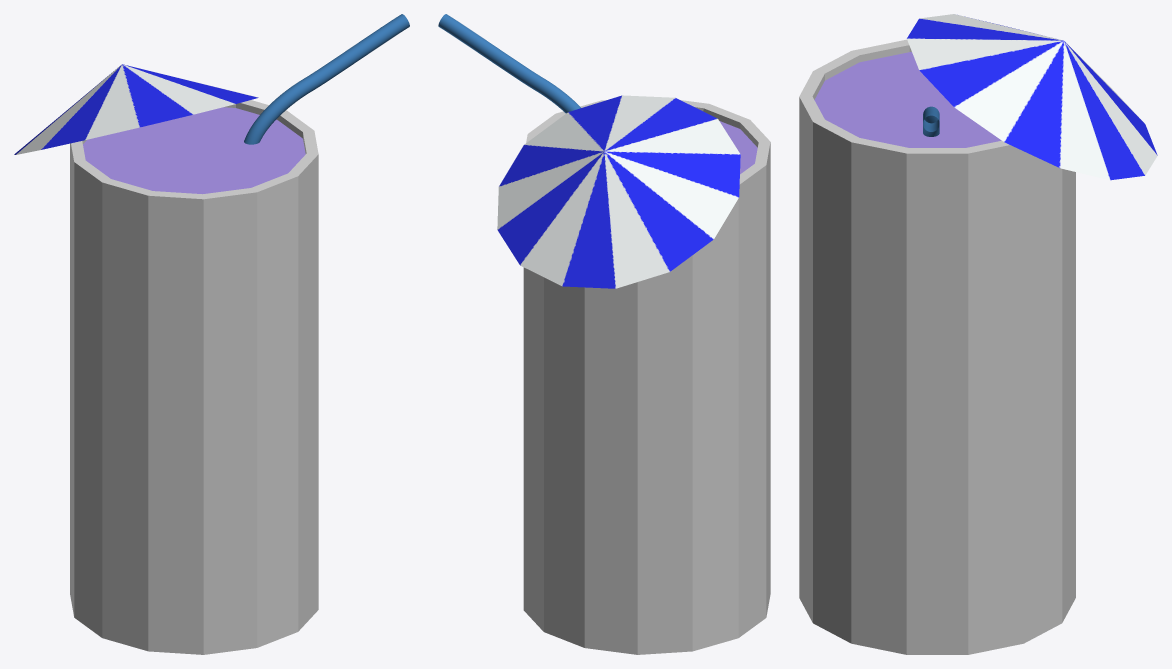
The model's file is CoctailOrange.fbx.
3 views of the same model, side by side, from view 1: azimuth 30°, elevation 25°; view 2: azimuth 150°, elevation 25°; view 3: azimuth 270°, elevation 25° (orthographic). The views are drawn at different scales.
Parts seen in each view (by area): view 1: Cylinder.001, Cylinder.004, Cylinder.002, BézierCurve; view 2: Cylinder.001, Cylinder.002, BézierCurve, Cylinder.004; view 3: Cylinder.001, Cylinder.002, Cylinder.004.
Boxes of the visible parts, x1,y1,x2,y2 form: Cylinder.001: [70, 100, 318, 654]; Cylinder.004: [83, 107, 305, 194]; Cylinder.002: [14, 64, 258, 154]; BézierCurve: [244, 14, 409, 144]; Cylinder.001: [523, 100, 770, 654]; Cylinder.002: [497, 95, 740, 288]; BézierCurve: [438, 14, 580, 113]; Cylinder.004: [719, 121, 757, 174]; Cylinder.001: [799, 39, 1075, 654]; Cylinder.002: [907, 14, 1157, 180]; Cylinder.004: [814, 52, 1001, 147].
Size of the model in its own units: 0.4597 by 0.3887 by 0.7098.
Materials: 5 (1 with a texture image).
